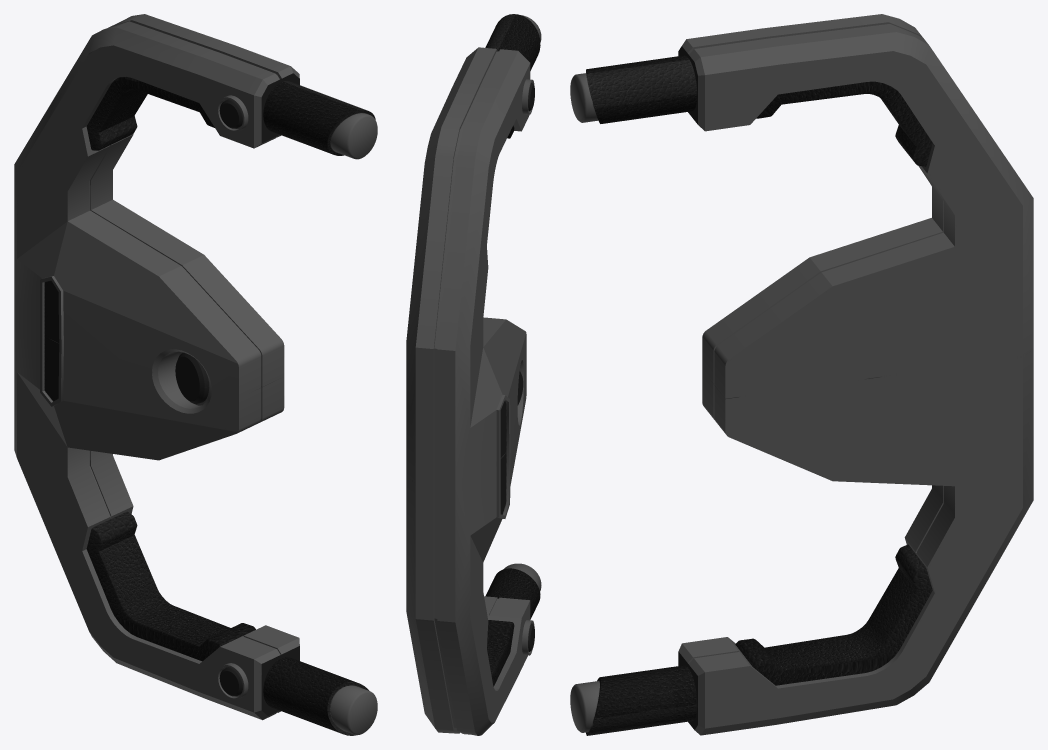
Rendered from steering_wheel.gltf.
3 renders of one model, left to right at view 1: azimuth 30°, elevation 25°; view 2: azimuth 150°, elevation 25°; view 3: azimuth 270°, elevation 25°, orthographic. The views are drawn at different scales.
Parts seen in each view (by area): view 1: steering_wheel; view 2: steering_wheel; view 3: steering_wheel.
Boxes of the visible parts, box(x1,y1,x2,y2) form: steering_wheel: box(14, 14, 377, 735); steering_wheel: box(406, 14, 541, 735); steering_wheel: box(570, 14, 1033, 735).
Bounding box in the file's own units: 0.0705 × 0.2529 × 0.1566.
Materials: 1 (1 with a texture image).
